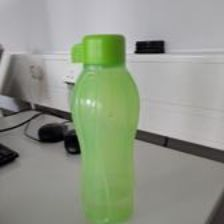bottle: (67, 32, 140, 224)
